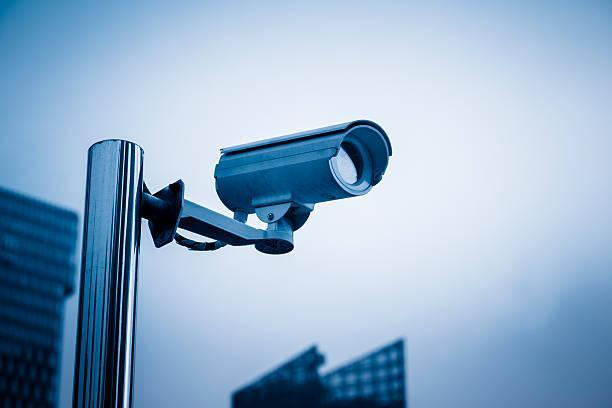camera: (202, 111, 405, 266)
